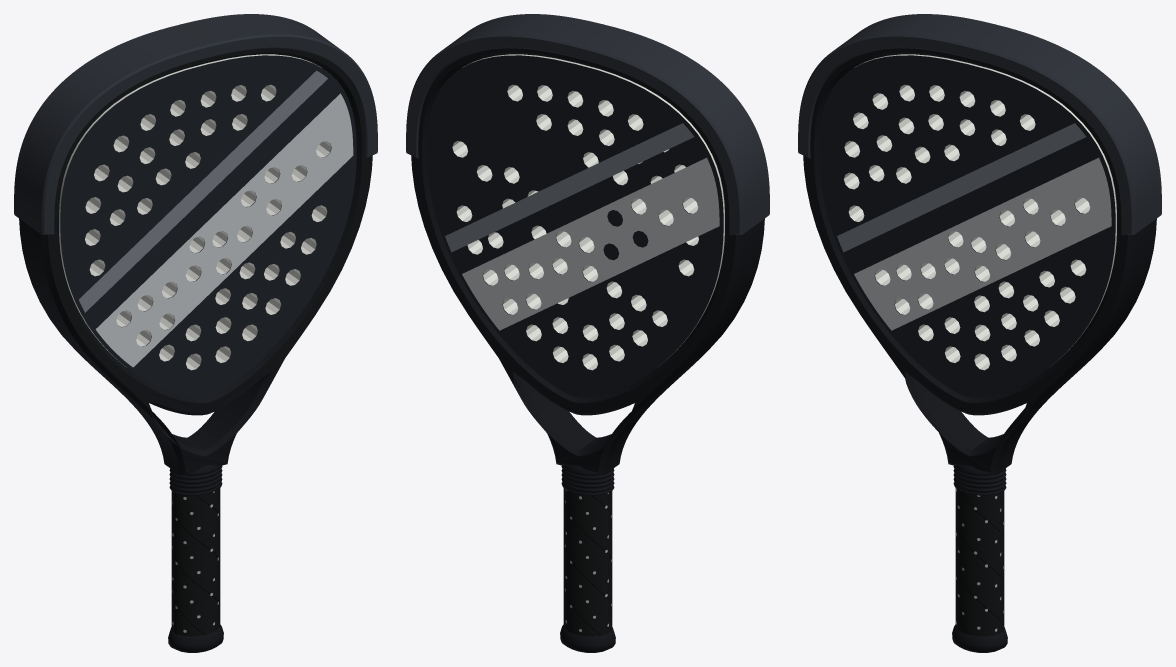
File: kuikma-hybrid-pro-coki-nieto.preview.glb
The picture shows the model from 3 angles, left to right: view 1: azimuth 30°, elevation 25°; view 2: azimuth 150°, elevation 25°; view 3: azimuth 330°, elevation 25°; orthographic projection.
Visible parts, largest first — view 1: part_face, part_print, part_frame, part_bumper, part_grip, part_collar, part_cap; view 2: part_face, part_print, part_frame, part_bumper, part_grip, part_collar, part_cap; view 3: part_face, part_print, part_frame, part_bumper, part_grip, part_collar, part_cap.
Boxes of the visible parts, <box> form: part_face: <box>59,54,356,397</box>; part_print: <box>79,70,353,367</box>; part_frame: <box>19,48,372,475</box>; part_bumper: <box>14,14,377,234</box>; part_grip: <box>171,488,220,636</box>; part_collar: <box>169,465,222,495</box>; part_cap: <box>168,624,223,652</box>; part_face: <box>427,54,724,397</box>; part_print: <box>445,123,719,330</box>; part_frame: <box>411,48,764,475</box>; part_bumper: <box>406,14,769,234</box>; part_grip: <box>563,488,612,636</box>; part_collar: <box>561,465,614,495</box>; part_cap: <box>560,624,615,652</box>; part_face: <box>819,54,1116,397</box>; part_print: <box>837,123,1111,330</box>; part_frame: <box>803,48,1156,475</box>; part_bumper: <box>798,14,1161,234</box>; part_grip: <box>955,488,1004,636</box>; part_collar: <box>953,465,1006,495</box>; part_cap: <box>952,624,1007,652</box>.
Size of the model in its own units: 0.2632 by 0.4566 by 0.0404.
Materials: 10 (1 with a texture image).
